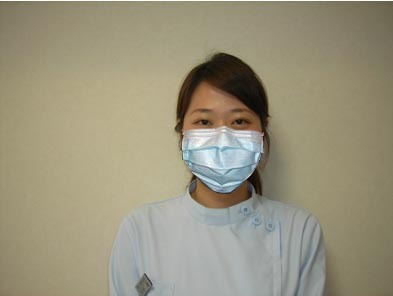face_mask: (181, 83, 260, 193)
